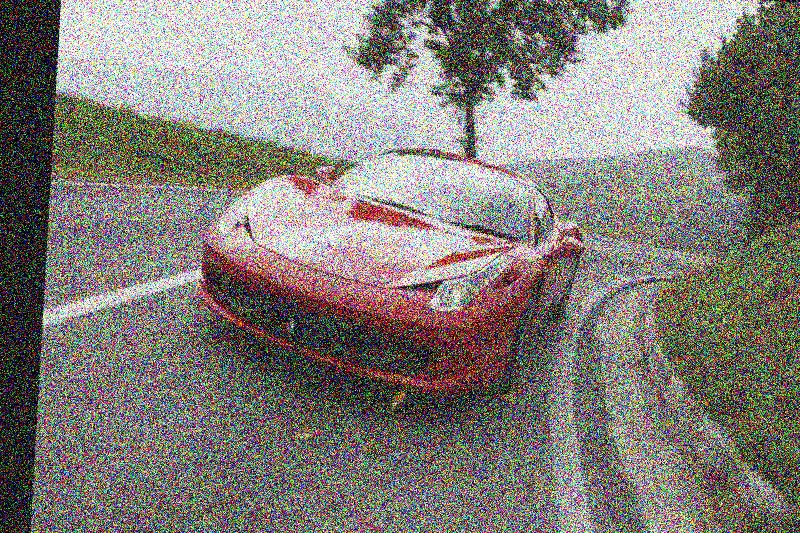car: (165, 126, 615, 442)
